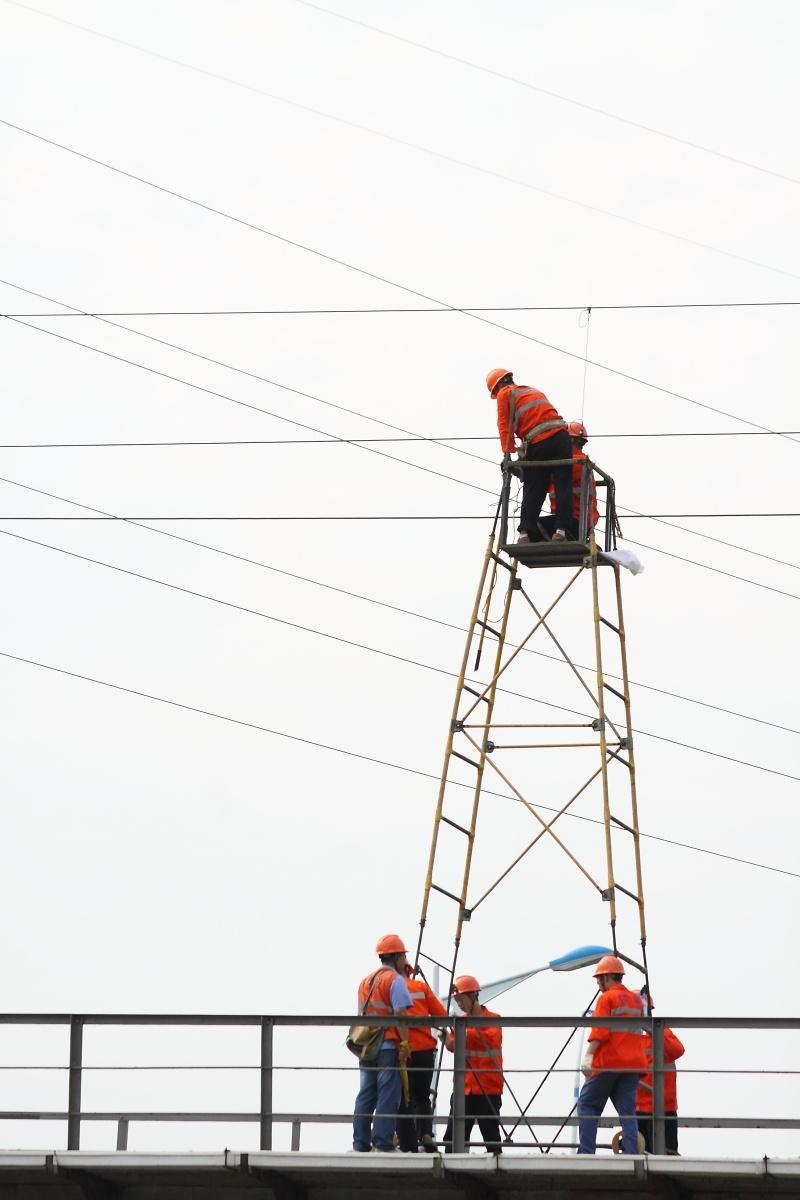person: (475, 358, 599, 566), (571, 946, 665, 1171), (346, 928, 427, 1162), (436, 965, 513, 1144)
